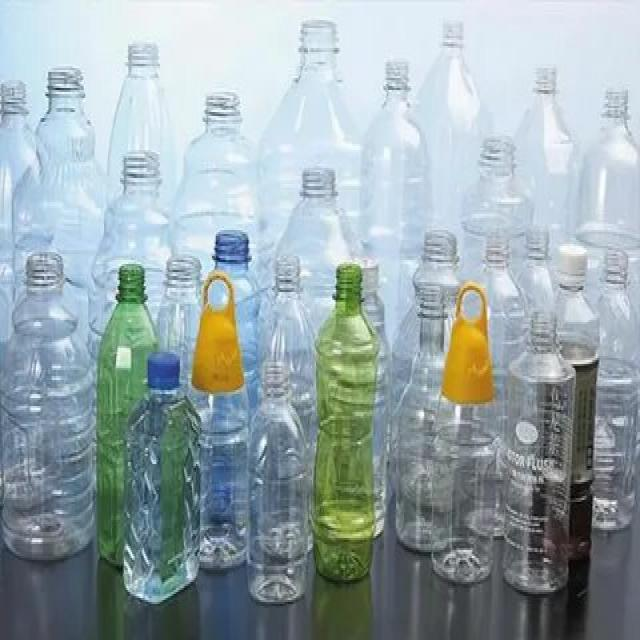green: (310, 265, 378, 585), (95, 265, 159, 358)
